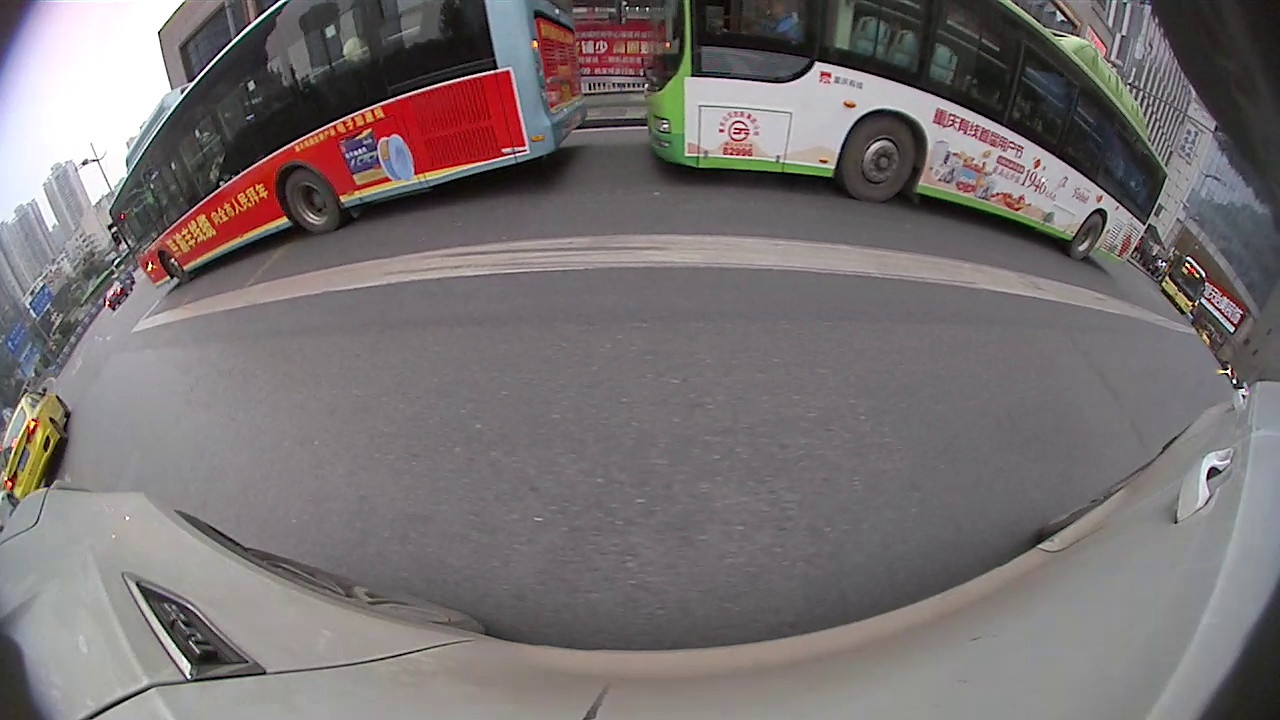bus: (645, 1, 1168, 265), (109, 1, 586, 290), (1159, 256, 1207, 317)
car: (0, 389, 70, 501), (99, 285, 126, 311)
front: (843, 118, 922, 201), (154, 252, 195, 283)
rear: (281, 169, 345, 233), (1068, 206, 1106, 259)
